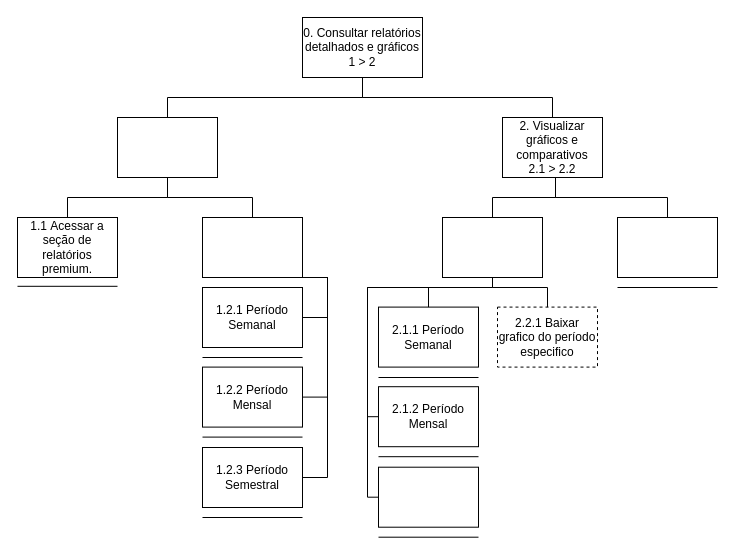
The diagram is 736 pixels wide and 556 high, and some of its shapes have lost their labels. Each missing label, with the centre of its shape:
1. Consultar relatório de sono detalhado 1.1 > 1.2: the point at 167,147
1.2 Selecionar período e detalhes avançados.: the point at 252,247
2.1 Escolher período do gráfico desejado. 2.1.1 / 2.1.2 / 2.1.3 + 2.2.1: the point at 492,247
2.1.3 Período Semestral: the point at 428,496
2.2 Comparar com períodos anteriores.: the point at 667,247
